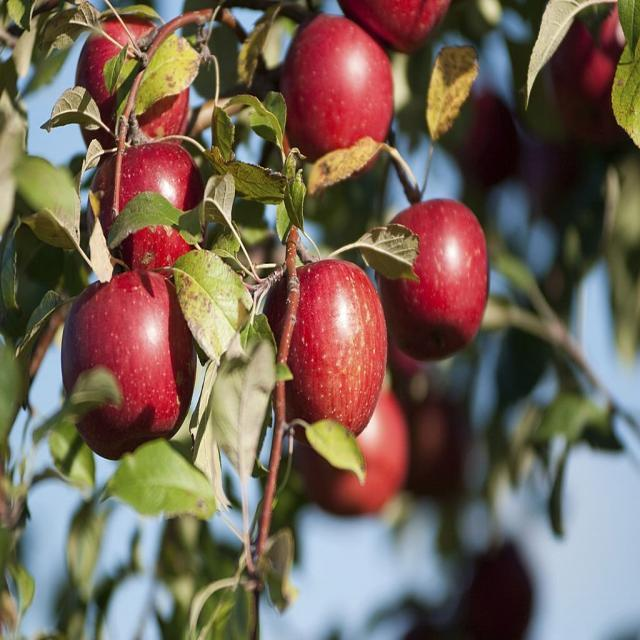Red Apple: (67, 281, 194, 444), (276, 261, 390, 425), (391, 201, 485, 349), (84, 20, 195, 144), (294, 22, 393, 155), (105, 153, 201, 276), (317, 391, 401, 509), (567, 22, 625, 109), (348, 3, 443, 51)
